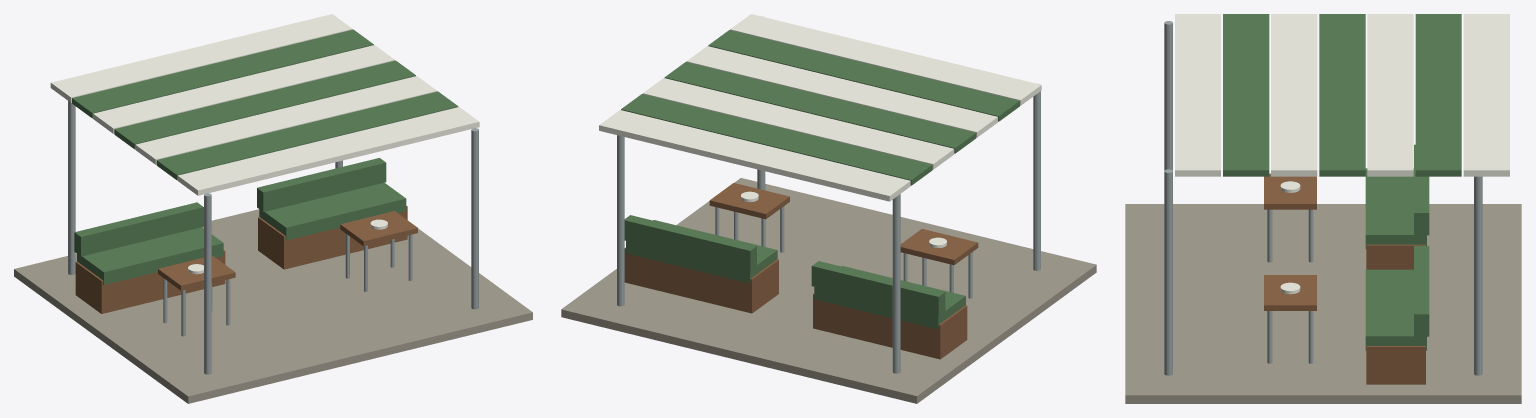
Rendered from scendance-plan-relax-zone-lounge.glb.
3 renders of one model, left to right at view 1: azimuth 30°, elevation 25°; view 2: azimuth 150°, elevation 25°; view 3: azimuth 270°, elevation 25°, orthographic. The views are drawn at different scales.
Size of the model in its own units: 4.8 by 2.53 by 4.2.
